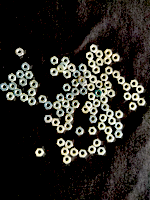nut: (5, 92, 15, 101), (21, 62, 30, 72), (61, 148, 70, 157), (97, 147, 106, 156), (93, 139, 102, 148), (51, 118, 60, 127), (38, 95, 47, 104), (13, 88, 22, 97), (8, 82, 17, 91), (27, 88, 36, 97), (29, 80, 38, 89), (19, 78, 28, 87), (16, 70, 25, 79), (25, 71, 34, 80), (95, 89, 104, 98), (15, 48, 24, 57), (112, 70, 121, 79), (89, 75, 98, 84), (83, 70, 92, 79), (92, 66, 101, 75), (51, 56, 59, 66), (35, 149, 44, 157), (63, 156, 71, 165), (70, 148, 78, 157), (88, 146, 97, 154), (65, 140, 73, 149), (57, 138, 65, 147), (44, 115, 53, 123), (56, 125, 65, 133), (64, 123, 73, 131), (76, 127, 84, 136), (88, 127, 97, 135), (106, 135, 115, 143), (114, 131, 123, 139), (104, 127, 113, 135), (108, 117, 116, 126), (64, 115, 73, 123), (56, 109, 65, 117), (53, 101, 61, 110), (44, 102, 53, 110), (27, 98, 36, 106), (20, 93, 28, 102), (1, 83, 9, 92), (89, 116, 98, 124), (99, 114, 108, 122), (106, 109, 114, 118), (115, 111, 124, 119), (66, 106, 74, 115), (62, 100, 70, 109), (82, 106, 91, 114), (93, 99, 101, 108), (101, 103, 109, 112), (56, 94, 65, 102), (71, 88, 80, 96), (80, 87, 88, 96), (87, 93, 96, 101), (100, 74, 109, 82), (105, 66, 113, 75), (117, 77, 126, 85), (130, 80, 139, 88), (136, 86, 145, 94), (137, 98, 146, 106), (129, 102, 137, 111), (96, 80, 104, 89), (78, 76, 86, 85), (71, 79, 80, 87), (73, 70, 81, 79), (79, 64, 87, 73), (63, 70, 71, 79), (68, 64, 76, 73), (50, 68, 58, 77), (57, 65, 66, 73), (60, 61, 68, 70), (61, 57, 70, 65), (88, 59, 96, 68), (96, 58, 105, 66), (86, 52, 94, 61), (90, 44, 98, 53), (95, 50, 104, 58), (104, 49, 113, 57), (79, 150, 87, 158), (98, 123, 106, 131), (115, 122, 123, 130), (8, 74, 16, 82), (72, 101, 80, 109), (90, 107, 98, 115), (85, 101, 93, 109), (66, 93, 74, 101), (63, 84, 71, 92), (100, 96, 108, 104), (100, 88, 108, 96), (108, 90, 116, 98), (104, 82, 112, 90), (123, 83, 131, 91), (124, 93, 132, 101), (132, 93, 140, 101), (104, 57, 112, 65), (112, 54, 120, 62), (88, 83, 95, 92), (80, 80, 88, 87)
